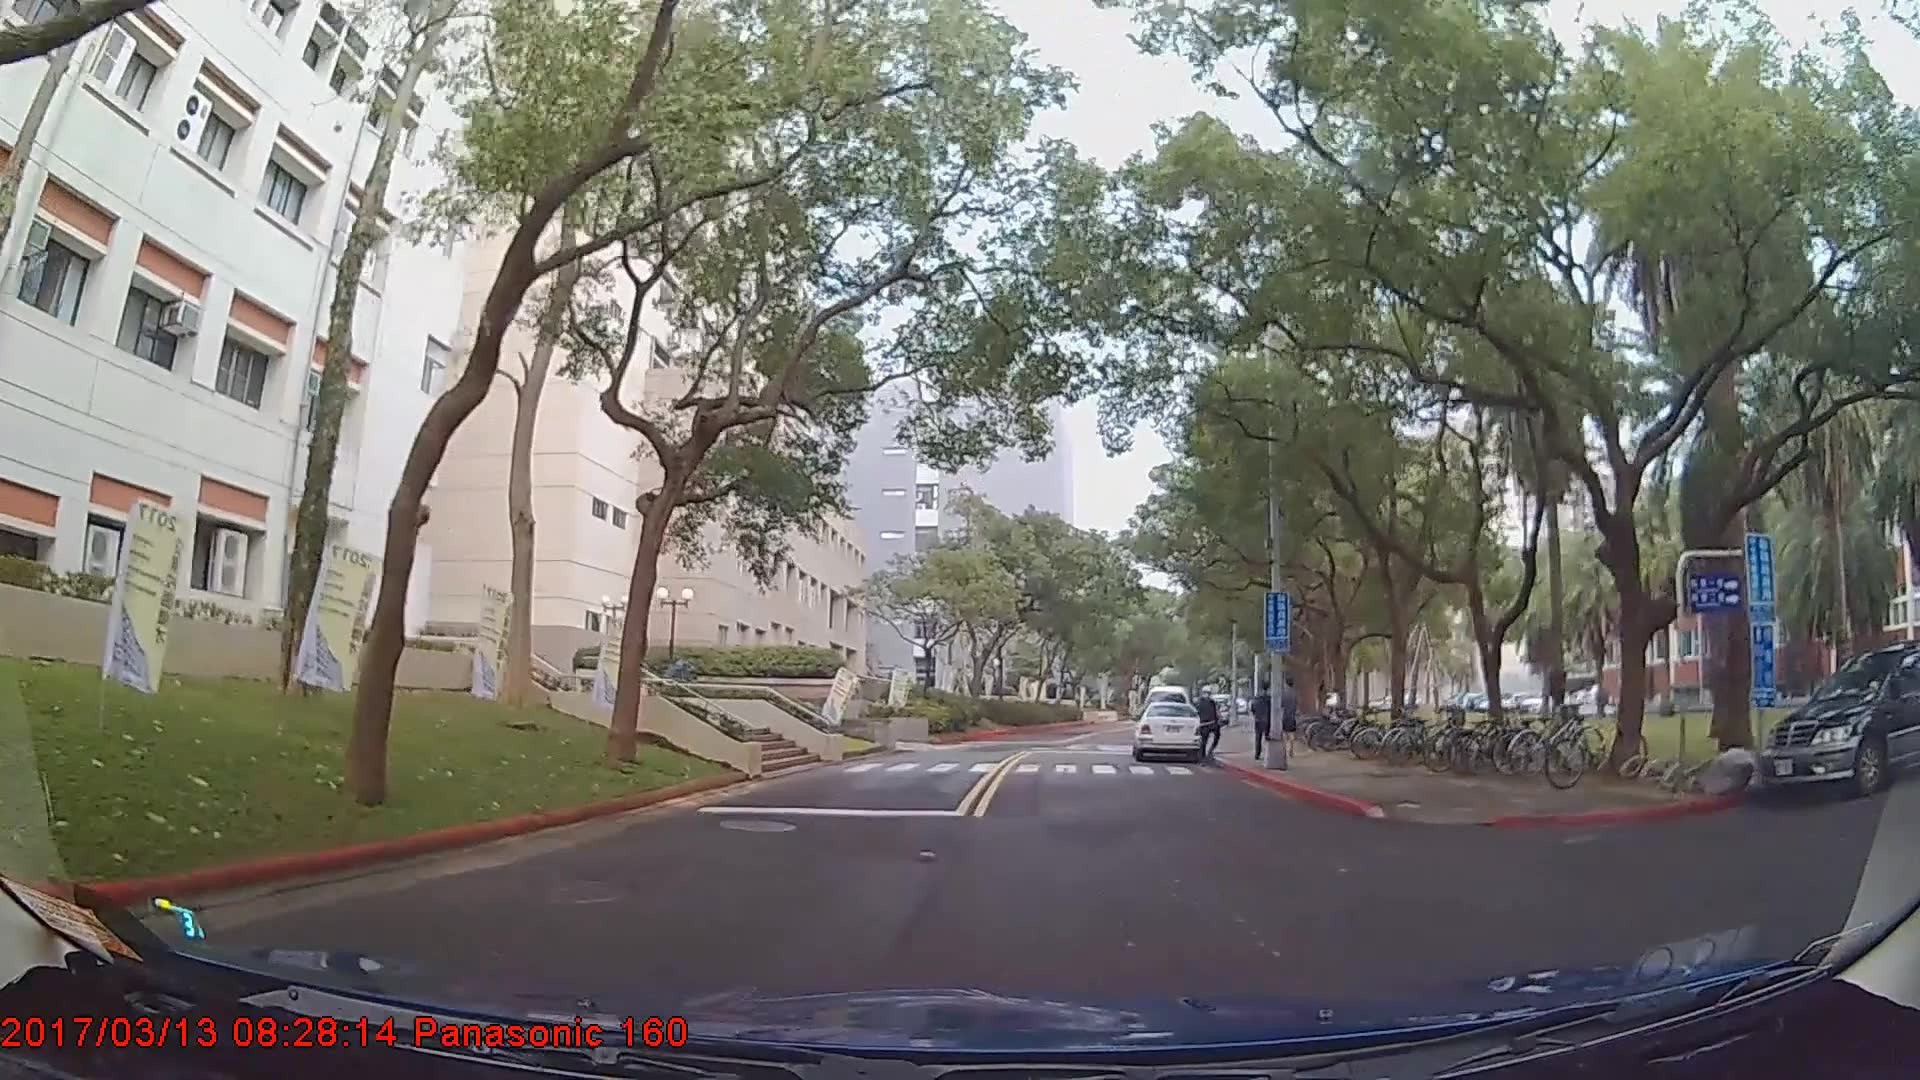pedestrian: (1251, 684, 1281, 760), (1197, 688, 1222, 763)
vehicle: (1764, 642, 1920, 799), (1131, 700, 1207, 764)
